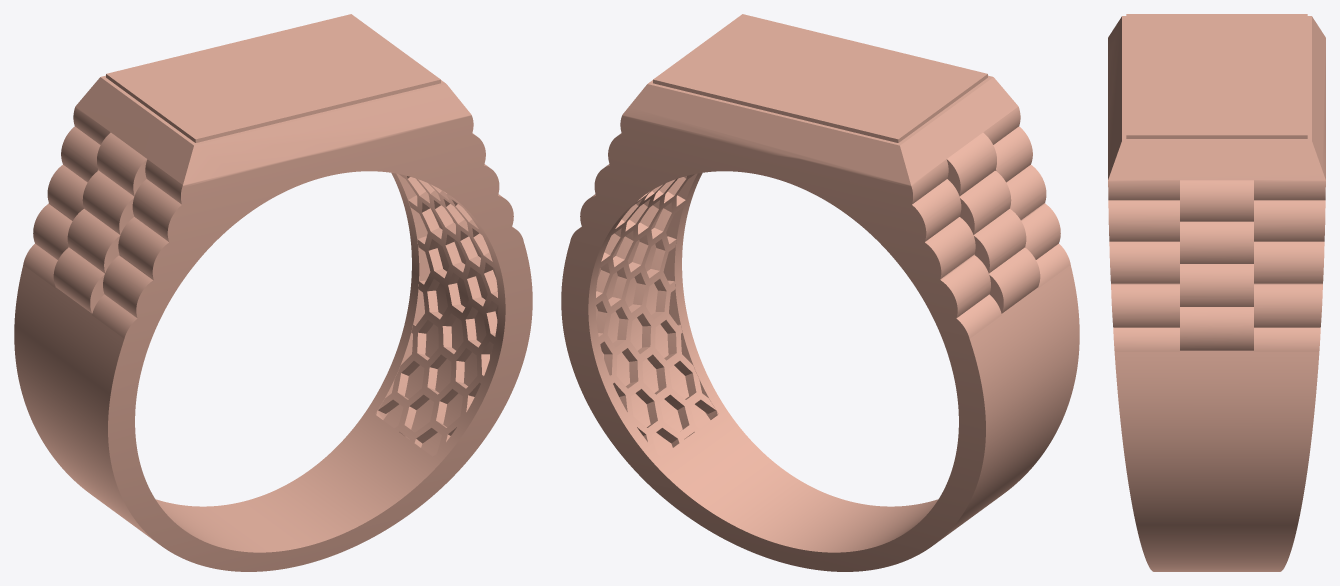
File: ring_light.glb
3 renders of one model, left to right at view 1: azimuth 30°, elevation 25°; view 2: azimuth 150°, elevation 25°; view 3: azimuth 270°, elevation 25°, orthographic.
Visible parts, largest first — view 1: MEN_RING; view 2: MEN_RING; view 3: MEN_RING.
Part boxes in pixels (bbox=[...]): MEN_RING: bbox=[14, 14, 532, 571]; MEN_RING: bbox=[561, 14, 1079, 571]; MEN_RING: bbox=[1108, 14, 1325, 571].
Size of the model in its own units: 2.35 by 2.48 by 1.03.
